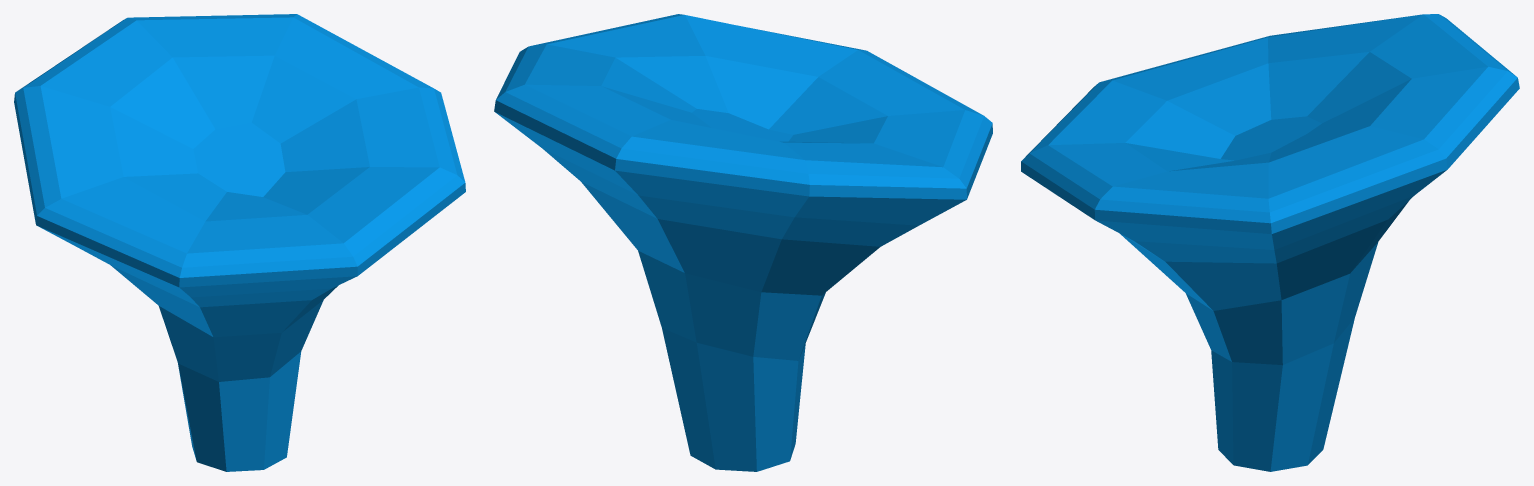
The model's file is Mushroom 04.fbx.
The picture shows the model from 3 angles, left to right: view 1: azimuth 30°, elevation 25°; view 2: azimuth 150°, elevation 25°; view 3: azimuth 270°, elevation 25°; orthographic projection. The views are drawn at different scales.
Visible parts, largest first — view 1: Mushroom 04; view 2: Mushroom 04; view 3: Mushroom 04.
Boxes of the visible parts, x1,y1,x2,y2 form: Mushroom 04: [14, 14, 465, 471]; Mushroom 04: [494, 14, 992, 471]; Mushroom 04: [1021, 14, 1519, 471].
Size of the model in its own units: 31.38 by 26.44 by 31.26.
